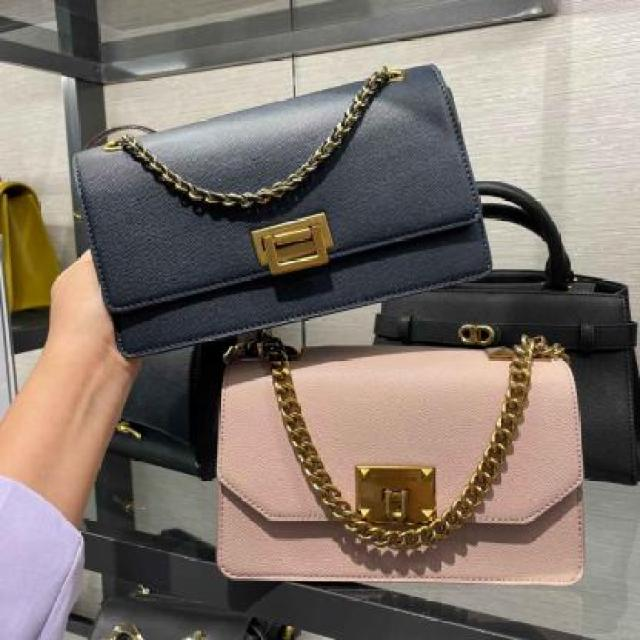Bag: (57, 49, 518, 378), (188, 310, 598, 596)
